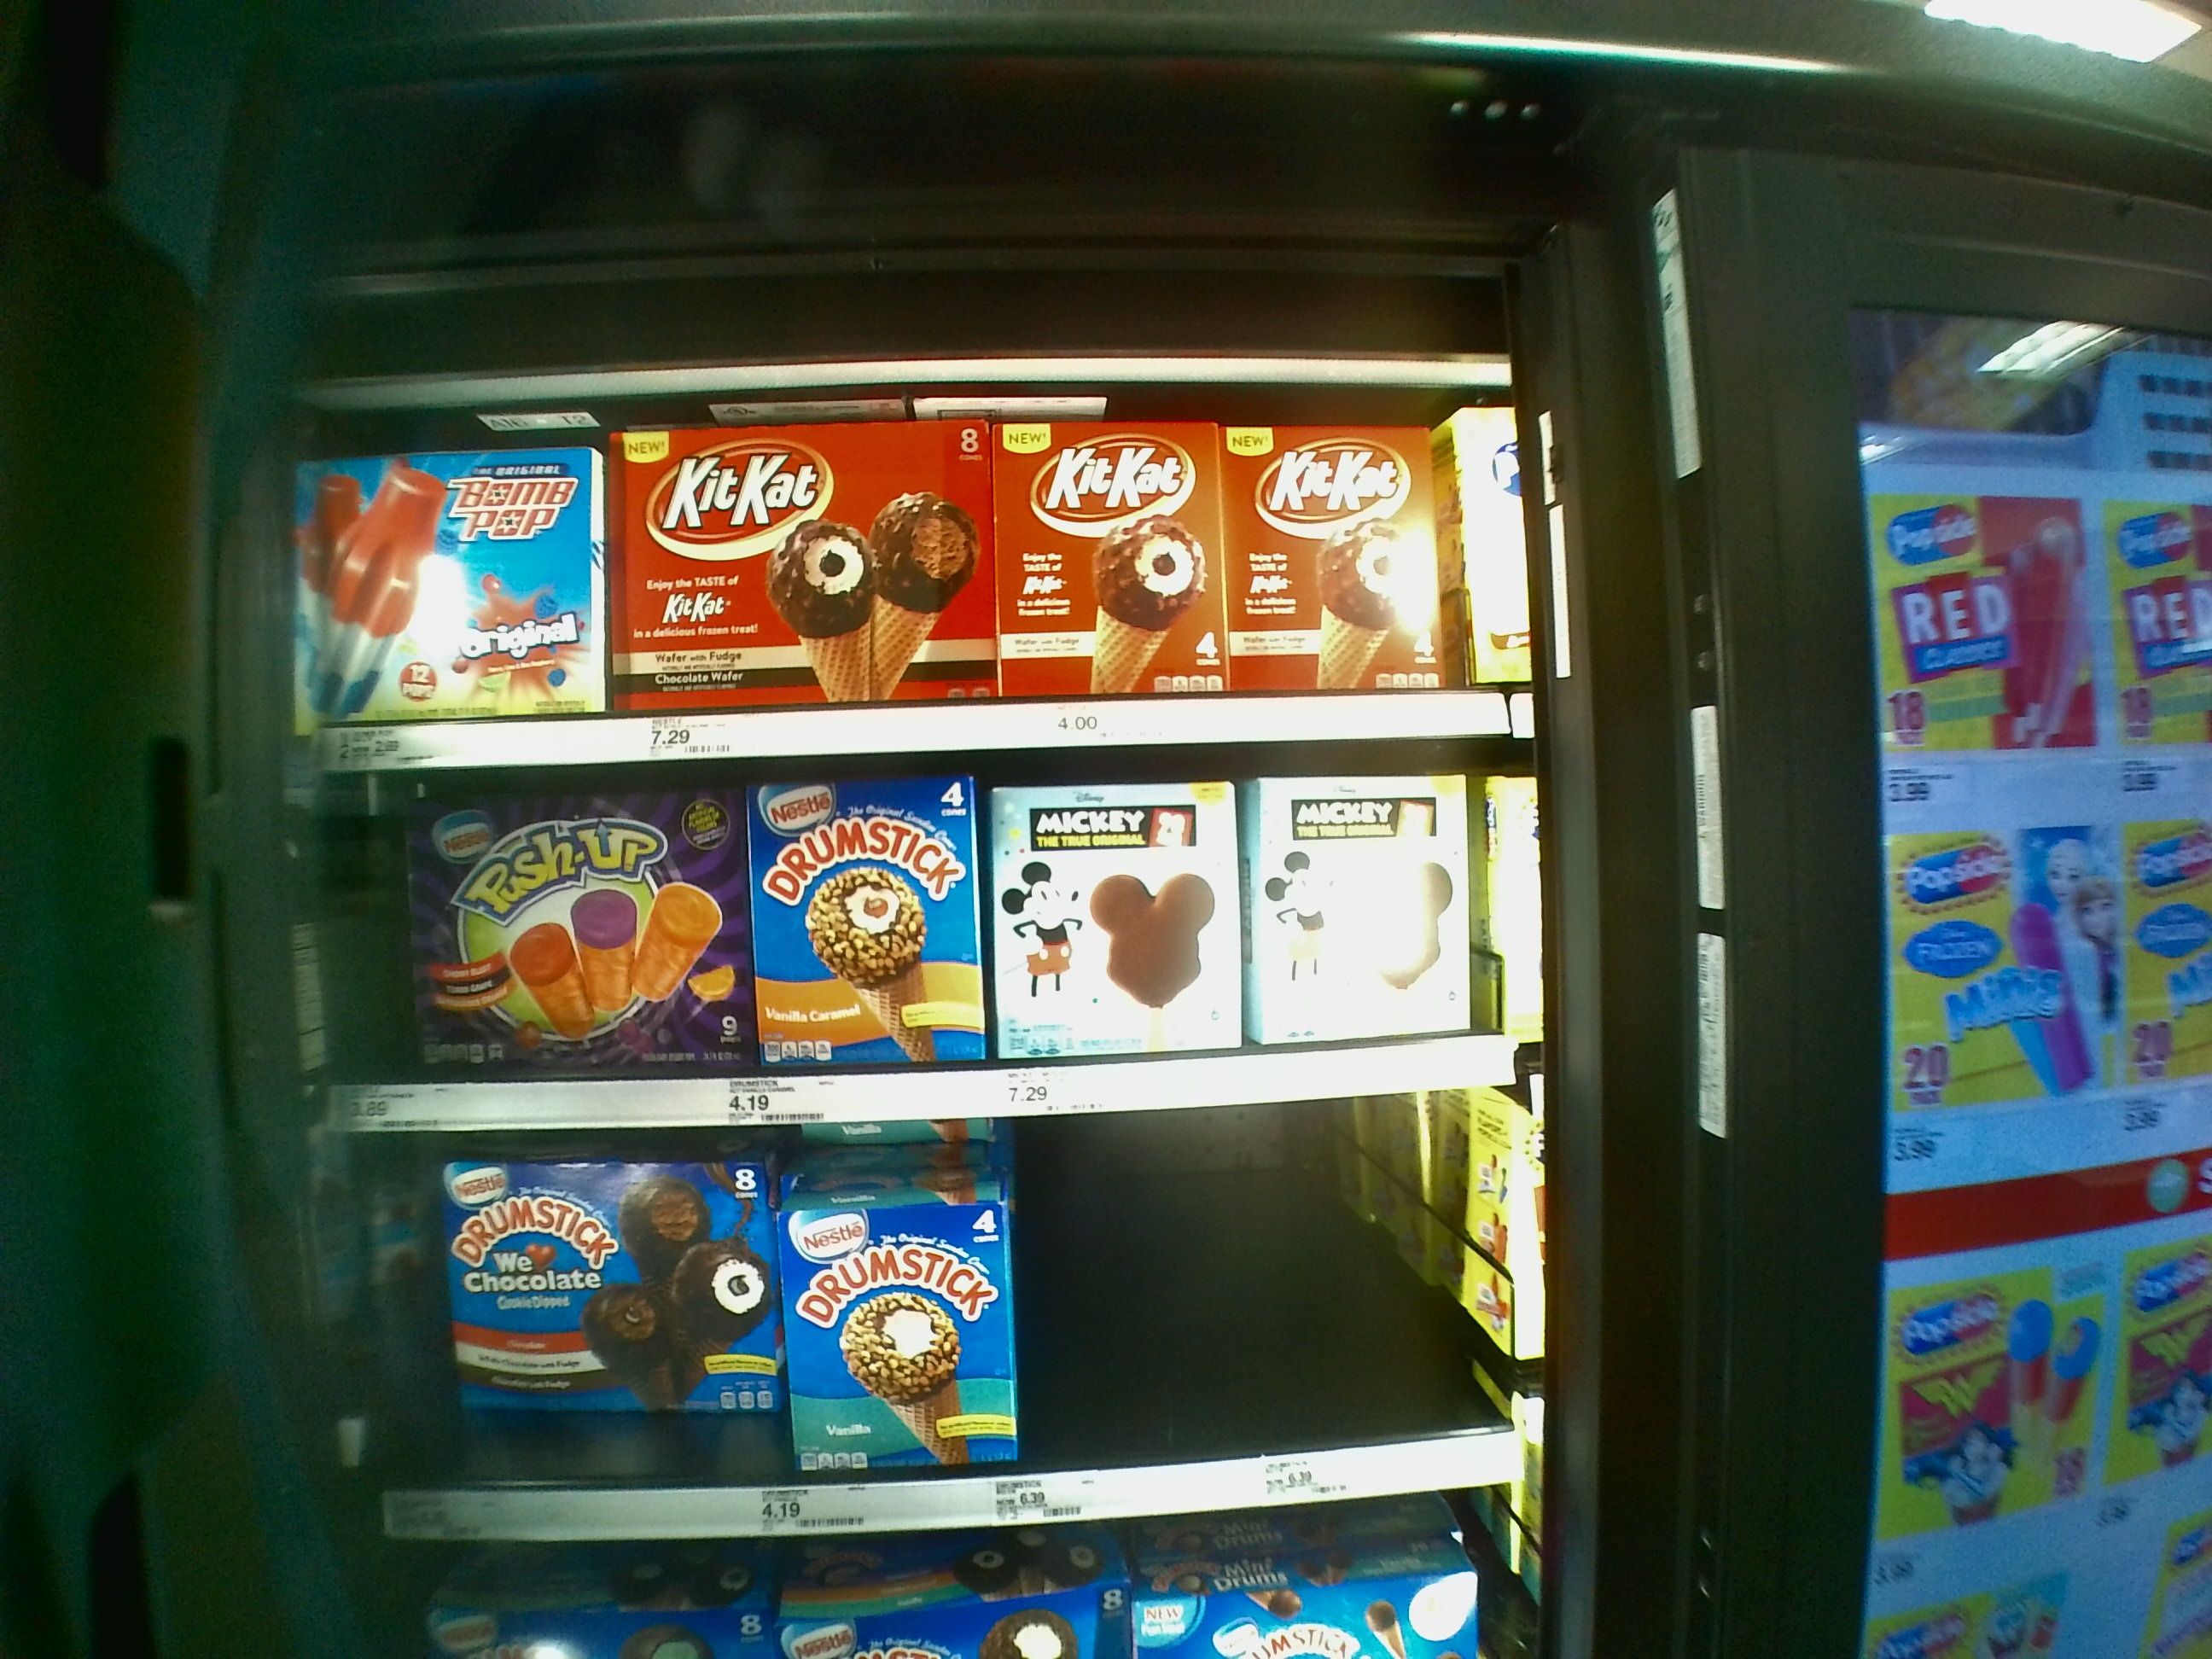shelf: (361, 1110, 1543, 1539), (298, 403, 1524, 763), (331, 742, 1519, 1110)
